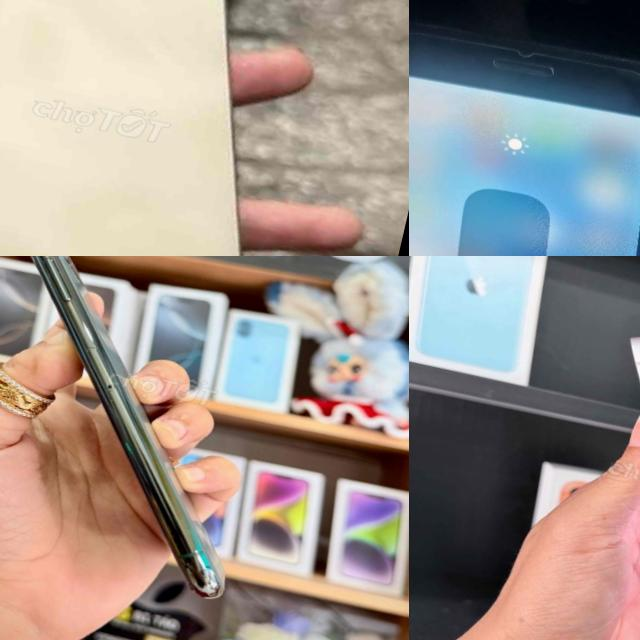gen_11: (30, 256, 223, 597)
gen_12_13: (553, 317, 640, 640)
gen_16: (0, 0, 383, 256)
gen_7_8: (409, 0, 640, 256)
